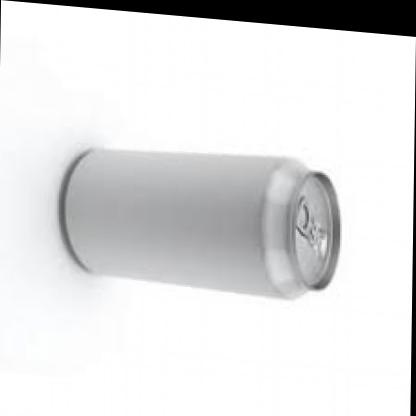trash: (60, 150, 339, 297)
